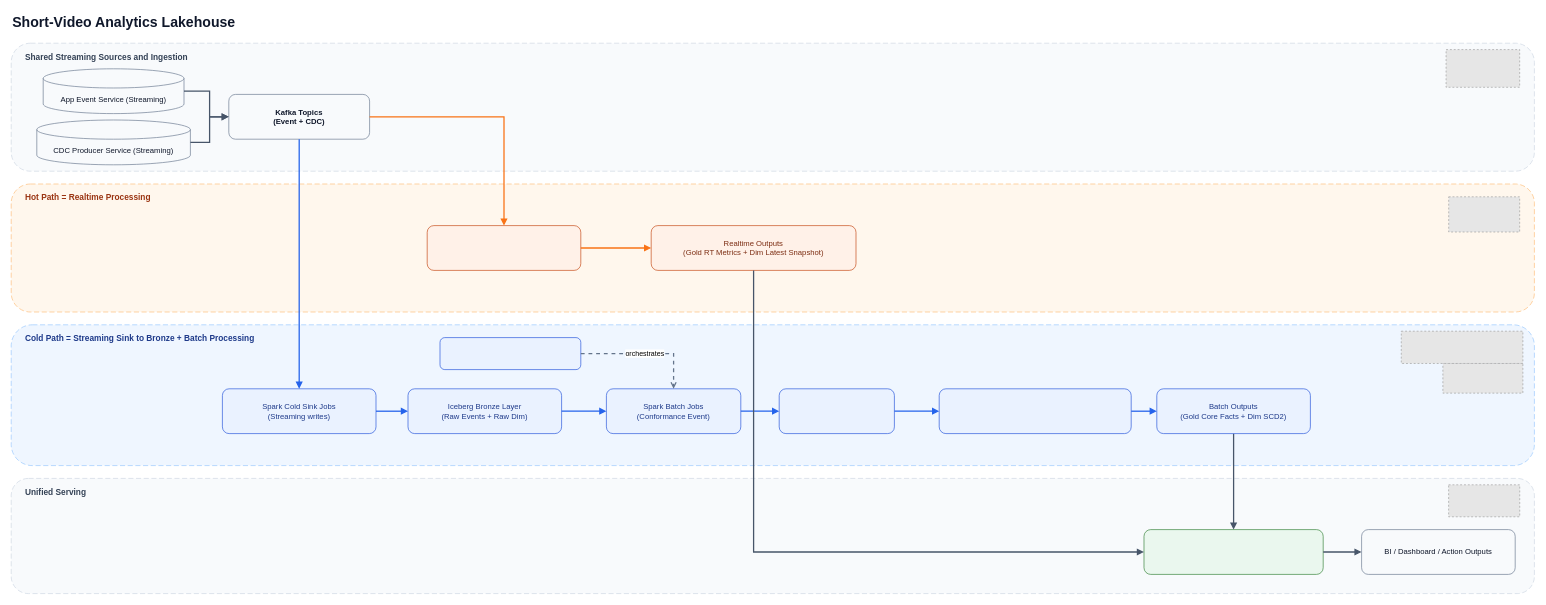
Some shapes in this 1546 by 605 pixel diagram are drawn without their labels. Grey dashed boxes stand in for pictures. Here are the shapes that lost their labels. From the top down, the centre of each, then its label:
the point at 504,247: Spark Realtime Jobs (RT Event + RT CDC)
the point at 510,353: Airflow Orchestrator
the point at 836,411: Iceberg Silver Layer (Conformed Events)
the point at 1035,411: Spark Batch Jobs (Sessionization / Retention / Engagement / Dim SCD2 )
the point at 1233,551: Trino Unified Semantic Layer
